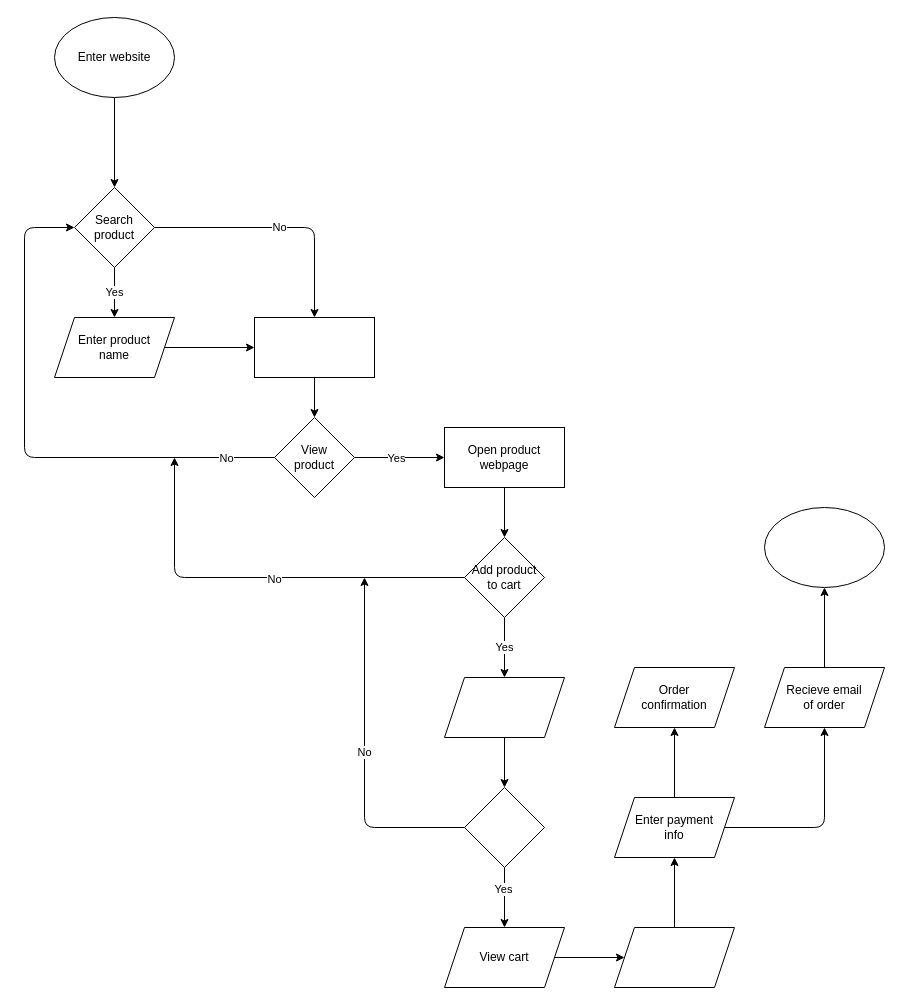
Image size: 902x1005. Some labels were removed from this diagram. Each missing label, with the centre of its shape:
Checkout: (504,827)
Exit website: (824,547)
Look over products: (314,347)
Product added to cart: (504,707)
View payment: (674,957)
